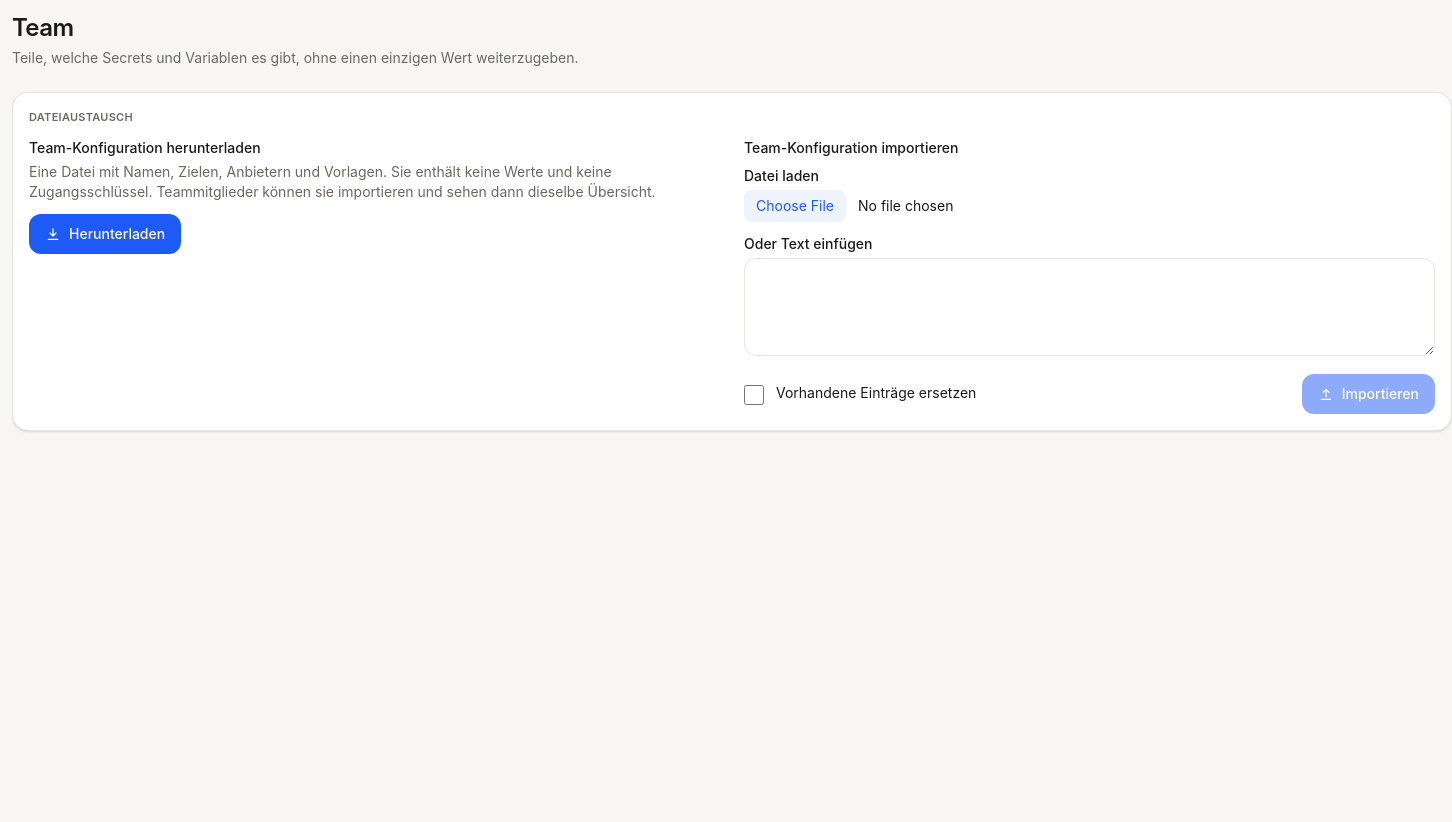
Test: Team page › imports pasted text and shows added and skipped counts (object form)
The width and height of the screenshot is (1452, 822).
Click the text box labelled "Oder Text einfügen" at x=1090, y=306, box [744, 258, 1435, 356]
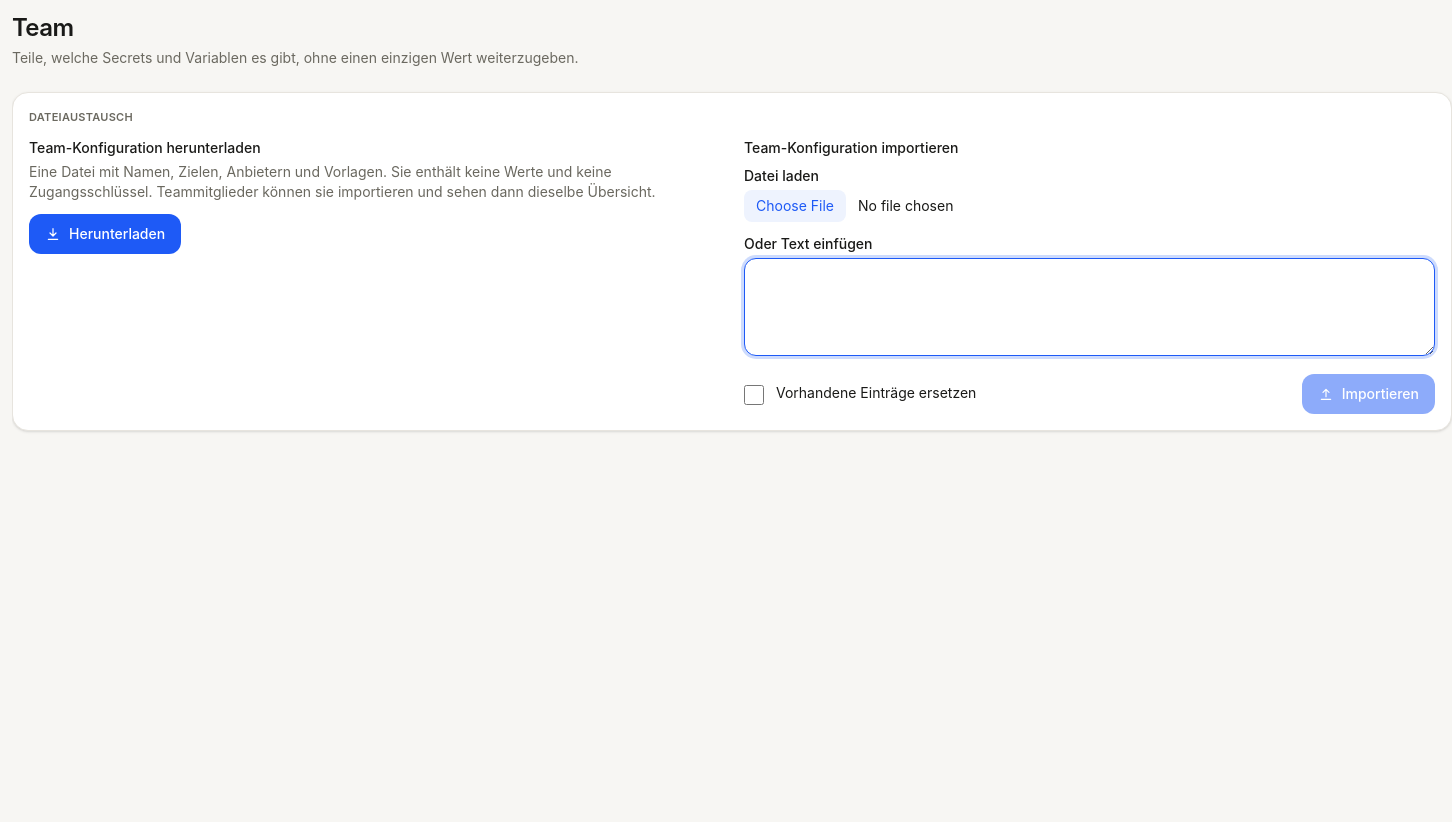
Type keys "version: 1"
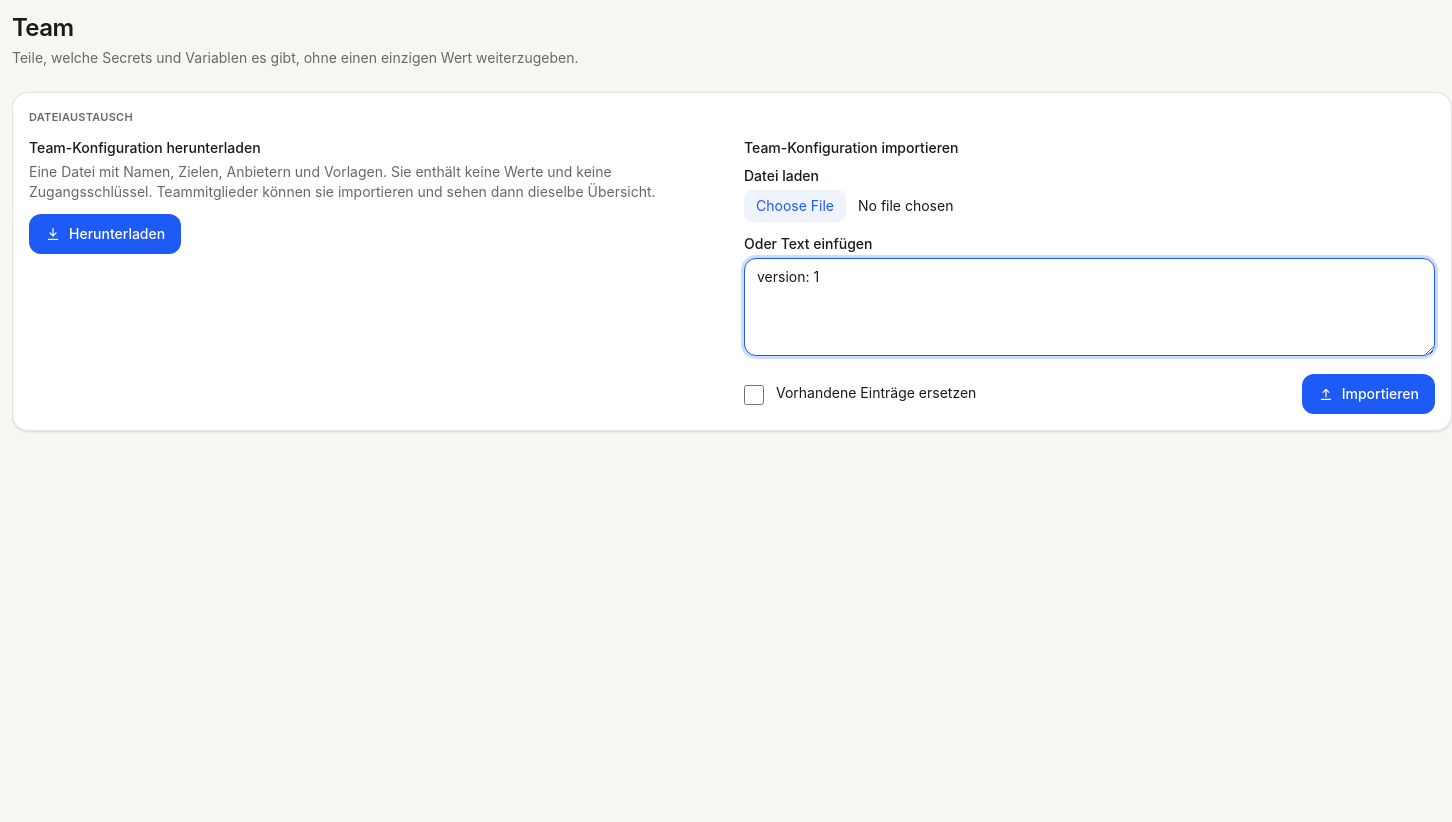
Click the button "Importieren" at x=1368, y=394, box [1302, 374, 1435, 414]
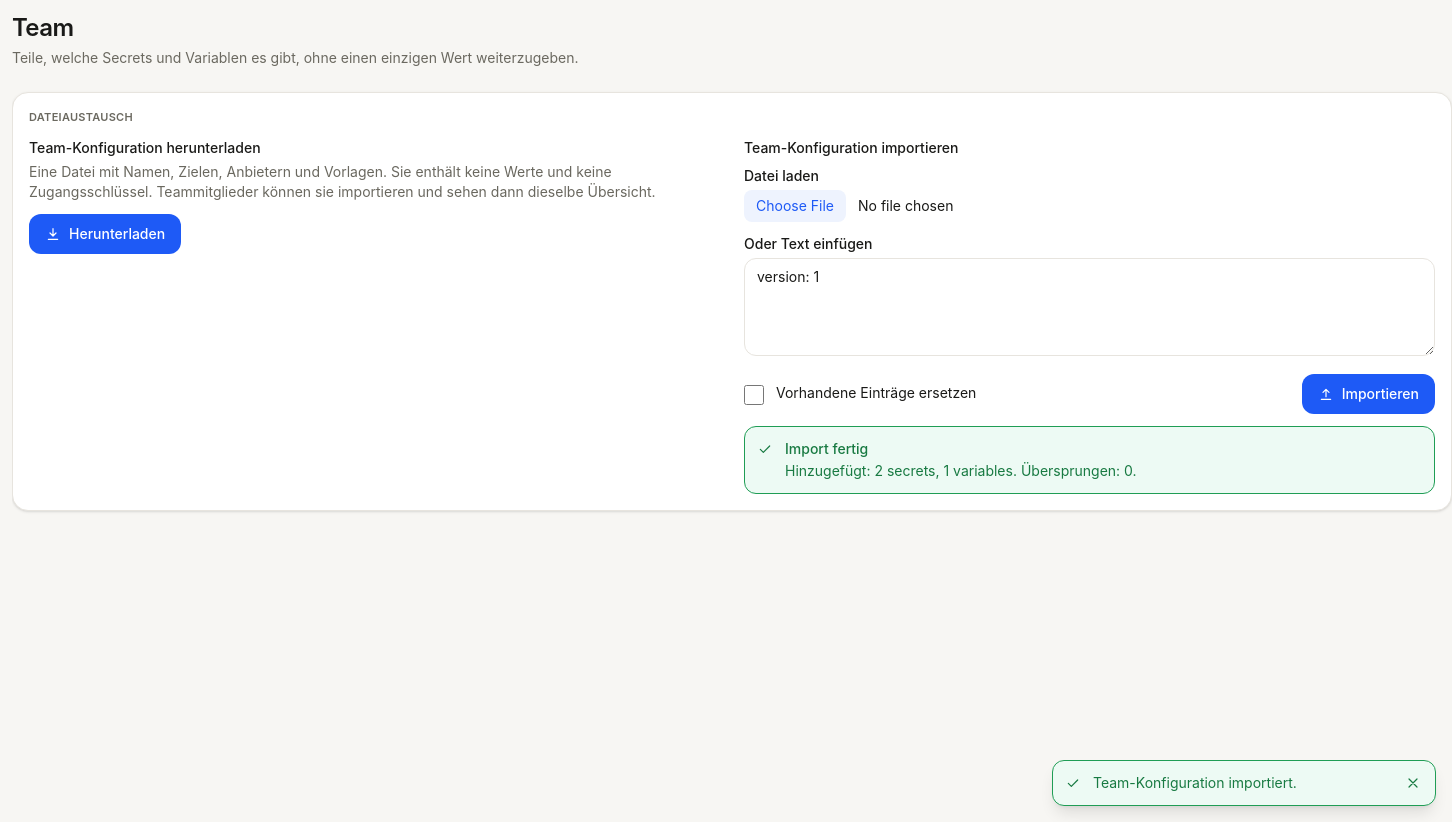
Now the text "Team-Konfiguration importiert." is shown, box [1093, 774, 1297, 791]
